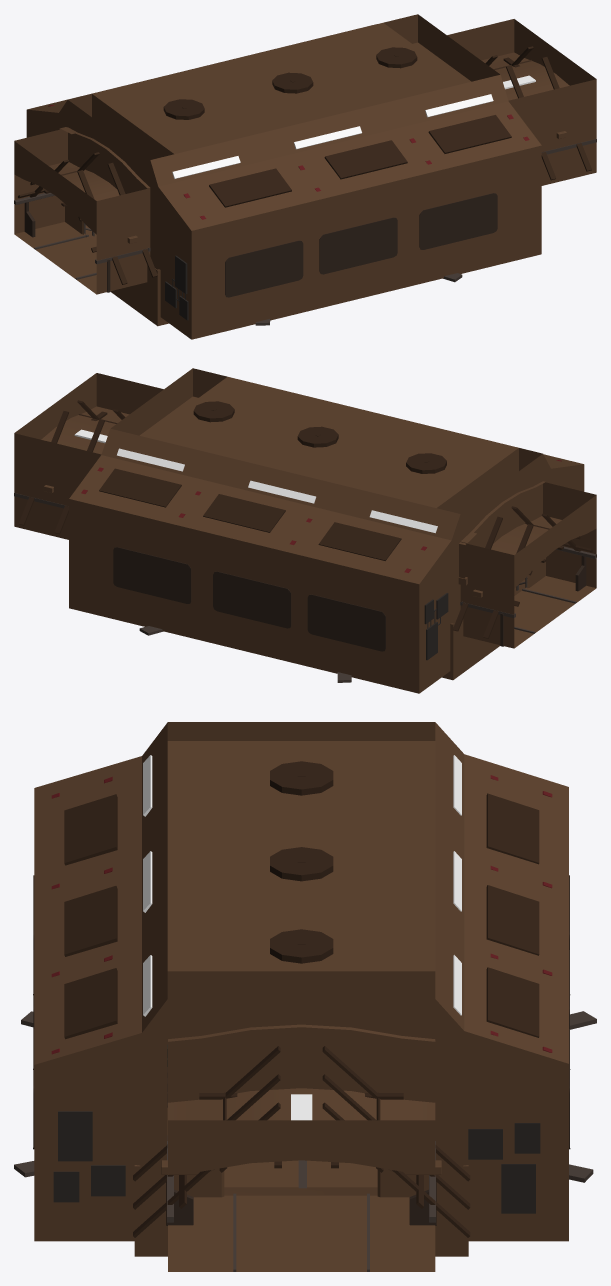
The model's file is maya2sketchfab.fbx.
3 renders of one model, top to bottom at view 1: azimuth 30°, elevation 25°; view 2: azimuth 150°, elevation 25°; view 3: azimuth 270°, elevation 25°, orthographic. The views are drawn at different scales.
Visible parts, largest first — view 1: polySurface192, polySurface147, polySurface148, polySurface328, polySurface329, polySurface330, polySurface256, polySurface255, polySurface254, polySurface193, polySurface338, polySurface334 (+4 smaller); view 2: polySurface192, polySurface147, polySurface148, polySurface332, polySurface333, polySurface331, polySurface251, polySurface253, polySurface252, polySurface193, polySurface334, polySurface336 (+4 smaller); view 3: polySurface192, polySurface148, polySurface216, polySurface256, polySurface254, polySurface255, polySurface253, polySurface251, polySurface252, polySurface334, polySurface336, polySurface338 (+12 smaller).
Boxes of the visible parts, x1,y1,x2,y2 form: polySurface192: (26, 14, 541, 339); polySurface147: (14, 127, 150, 294); polySurface148: (447, 19, 596, 185); polySurface328: (225, 240, 303, 297); polySurface329: (319, 217, 397, 274); polySurface330: (419, 193, 497, 249); polySurface256: (209, 168, 291, 207); polySurface255: (324, 140, 407, 179); polySurface254: (428, 115, 511, 153); polySurface193: (65, 206, 168, 326); polySurface338: (163, 99, 204, 119); polySurface334: (376, 47, 417, 68); polySurface192: (69, 368, 584, 693); polySurface147: (458, 481, 596, 648); polySurface148: (14, 373, 163, 539); polySurface332: (213, 571, 291, 628); polySurface333: (113, 547, 191, 603); polySurface331: (307, 594, 385, 651); polySurface251: (99, 468, 181, 507); polySurface253: (318, 522, 401, 560); polySurface252: (203, 494, 285, 532); polySurface193: (442, 558, 545, 680); polySurface334: (193, 401, 234, 422); polySurface336: (297, 426, 338, 447); polySurface192: (34, 722, 568, 1241); polySurface148: (168, 1024, 435, 1271); polySurface216: (134, 1165, 468, 1256); polySurface256: (64, 794, 117, 865); polySurface254: (64, 968, 117, 1039); polySurface255: (64, 886, 117, 956); polySurface253: (486, 793, 539, 864); polySurface251: (486, 967, 539, 1037); polySurface252: (486, 885, 539, 955); polySurface334: (270, 929, 333, 963); polySurface336: (270, 847, 333, 881); polySurface338: (270, 761, 333, 795).
Size of the model in its own units: 28 by 9.65 by 17.45.
2 materials, 1 textured.
